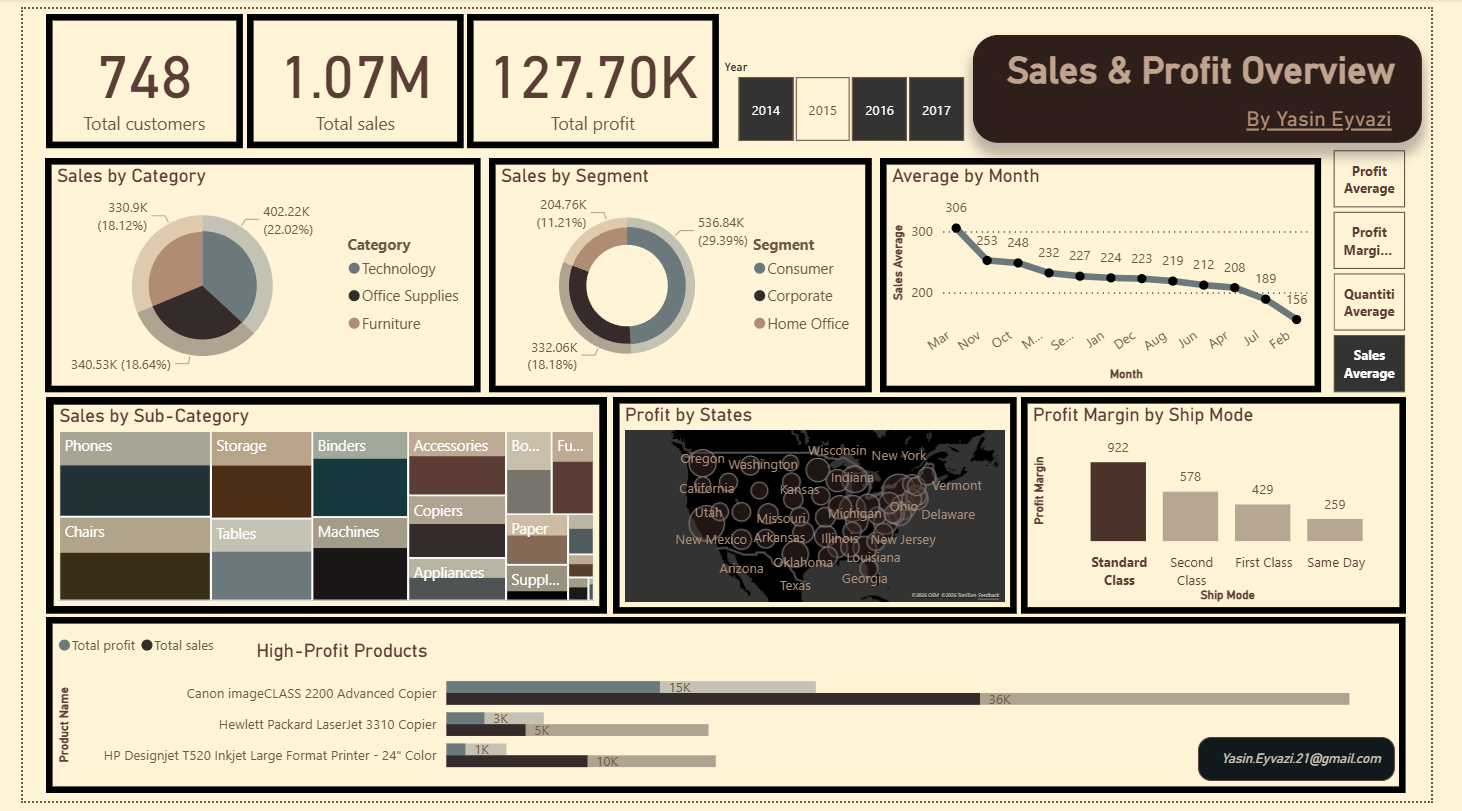

What the dashboard file says about the page in this screenshot:
{"tool":"powerbi","page":{"name":"Sales Dashboard","canvas":[1280,720],"ordinal":0},"visuals":[{"type":"pieChart","title":"Sales by Category","fields":{"Category":["Sample - Superstore.Category"],"Y":["Sample - Superstore.Total sales"]},"box":[20,135,396,213],"z":0},{"type":"slicer","fields":{"Values":["Sample - Superstore.Year"]},"box":[624.8,40.6,254.9,85.7],"z":1000},{"type":"azureMap","title":"Profit by States","fields":{"Category":["Sample - Superstore.State","Sample - Superstore.City"],"Size":["Sum(Table1.Profit)"]},"box":[536,353,367,197],"z":2000},{"type":"card","fields":{"Values":["Sample - Superstore.Total customers"]},"box":[21,5,178.9,121.9],"z":3000},{"type":"card","fields":{"Values":["Sample - Superstore.Total sales"]},"box":[203.8,5,196.8,121.9],"z":4000},{"type":"donutChart","title":" Sales by Segment","fields":{"Category":["Sample - Superstore.Segment"],"Y":["Sample - Superstore.Total sales"]},"box":[424,135,348,213],"z":5000},{"type":"clusteredBarChart","title":"High-Profit Products","fields":{"Category":["Sample - Superstore.Product Name"],"Y":["Sample - Superstore.Total profit","Sample - Superstore.Total sales"]},"box":[21,553,1236,160],"z":6000},{"type":"slicer","fields":{"Values":["Parameter.Parameter"]},"box":[1165,106,115,259],"z":7000},{"type":"lineChart","title":"Average by Month","fields":{"Y":["Sample - Superstore.Profit Average"],"Category":["Sample - Superstore.Month"]},"box":[779,135,401,213],"z":8000},{"type":"clusteredColumnChart","title":" Profit Margin by Ship Mode","fields":{"Category":["Sample - Superstore.Ship Mode"],"Y":["Sum(Table1.Profit Margin)"]},"box":[907,353,350,197],"z":9000},{"type":"card","fields":{"Values":["Sample - Superstore.Total profit"]},"box":[403.7,5,228.8,121.9],"z":10000},{"type":"textbox","box":[863.9,23.7,408.2,98.1],"z":11000},{"type":"textbox","box":[1107.5,83.5,145.5,86.8],"z":12000},{"type":"textbox","box":[207.2,568,242.2,33.1],"z":13000},{"type":"treemap","title":"Sales by Sub-Category","fields":{"Group":["Sample - Superstore.Sub-Category"],"Values":["Sample - Superstore.Total sales"]},"box":[21,353,510,197],"z":14000},{"type":"textbox","box":[1068.2,661.8,179.1,40],"z":16001}]}

Visuals, with their boxes in screenshot pixels (x1, y1, x2, y2), scaled from the page's 1280x720 canvas onto the 1462x811 screenshot:
"Sales by Category" pieChart: BBox(23, 152, 475, 392)
slicer - Sample - Superstore.Year: BBox(714, 46, 1005, 142)
"Profit by States" azureMap: BBox(612, 398, 1031, 620)
card - Sample - Superstore.Total customers: BBox(24, 6, 228, 143)
card - Sample - Superstore.Total sales: BBox(233, 6, 458, 143)
" Sales by Segment" donutChart: BBox(484, 152, 882, 392)
"High-Profit Products" clusteredBarChart: BBox(24, 623, 1436, 803)
slicer - Parameter.Parameter: BBox(1331, 119, 1461, 411)
"Average by Month" lineChart: BBox(890, 152, 1348, 392)
" Profit Margin by Ship Mode" clusteredColumnChart: BBox(1036, 398, 1436, 620)
card - Sample - Superstore.Total profit: BBox(461, 6, 722, 143)
textbox: BBox(987, 27, 1453, 137)
textbox: BBox(1265, 94, 1431, 192)
textbox: BBox(237, 640, 513, 677)
"Sales by Sub-Category" treemap: BBox(24, 398, 607, 620)
textbox: BBox(1220, 745, 1425, 790)
